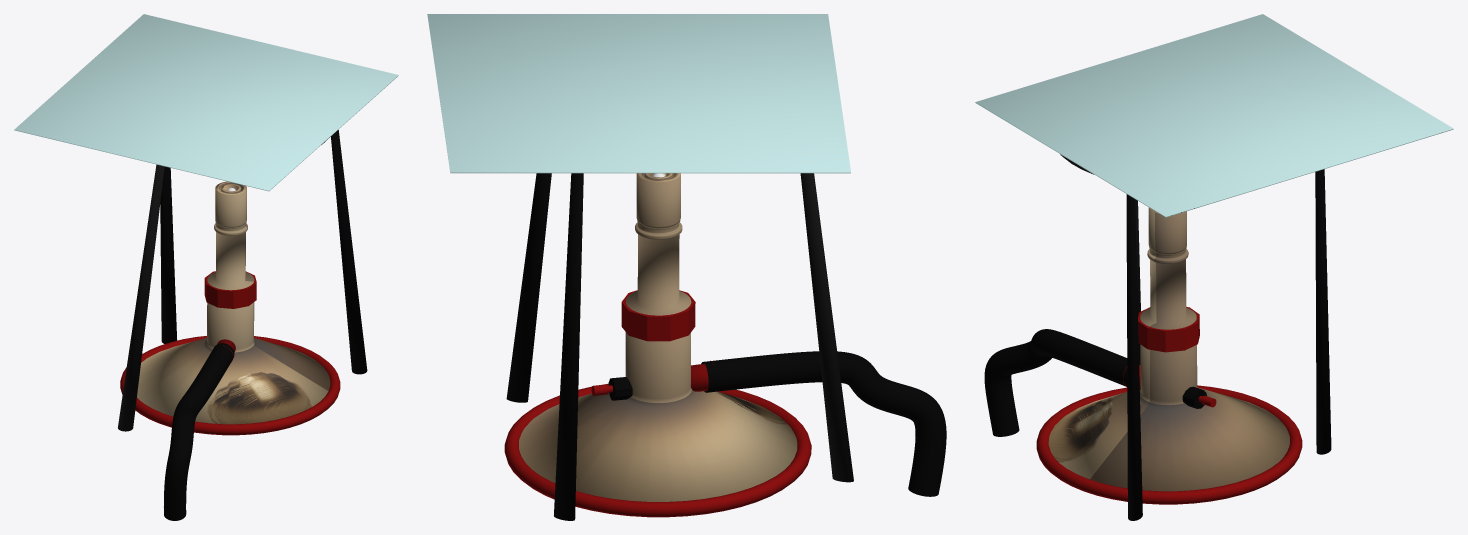
File: bunsen.glb
The picture shows the model from 3 angles, left to right: view 1: azimuth 30°, elevation 25°; view 2: azimuth 150°, elevation 25°; view 3: azimuth 270°, elevation 25°; orthographic projection. The views are drawn at different scales.
Parts seen in each view (by area): view 1: top-Plane, busernburner.002, ring-stand, busernburner.007, busernburner.005, busernburner.001; view 2: top-Plane, busernburner.002, ring-stand, busernburner.007, busernburner.005, busernburner.001, busernburner.003; view 3: top-Plane, busernburner.002, ring-stand, busernburner.007, busernburner.005, busernburner.001.
Boxes of the visible parts, x1,y1,x2,y2 form: top-Plane: [14, 14, 398, 191]; busernburner.002: [137, 181, 330, 424]; ring-stand: [118, 130, 367, 431]; busernburner.007: [164, 343, 234, 520]; busernburner.005: [120, 336, 340, 435]; busernburner.001: [204, 271, 256, 308]; top-Plane: [427, 14, 850, 173]; busernburner.002: [519, 173, 797, 501]; ring-stand: [506, 173, 853, 520]; busernburner.007: [701, 351, 946, 496]; busernburner.005: [504, 383, 811, 517]; busernburner.001: [621, 290, 695, 341]; busernburner.003: [591, 360, 713, 395]; top-Plane: [975, 14, 1453, 217]; busernburner.002: [1048, 207, 1289, 491]; ring-stand: [1060, 154, 1331, 520]; busernburner.007: [984, 329, 1140, 436]; busernburner.005: [1036, 385, 1302, 504]; busernburner.001: [1138, 307, 1199, 352].
Size of the model in its own units: 0.1969 by 0.1797 by 0.1964.
9 materials, 1 textured.
